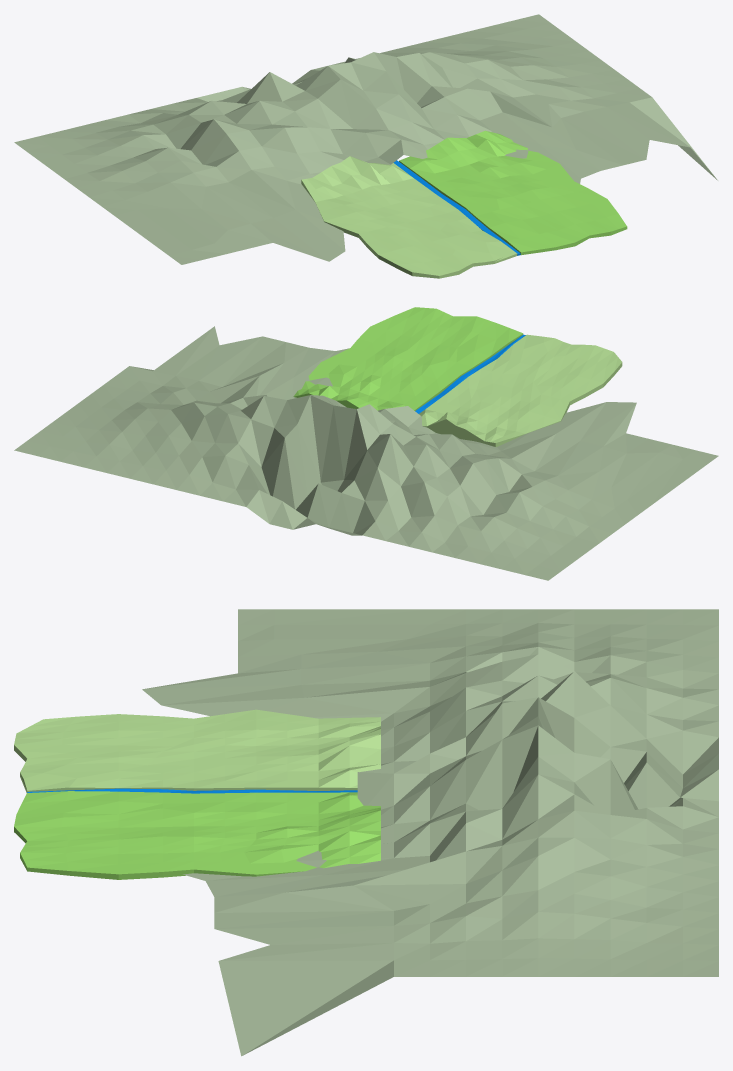
Rendered from landscape_0001.obj.
The picture shows the model from 3 angles, top to bottom: view 1: azimuth 30°, elevation 25°; view 2: azimuth 150°, elevation 25°; view 3: azimuth 270°, elevation 25°; orthographic projection. The views are drawn at different scales.
Size of the model in its own units: 7160 by 1435 by 5660.
